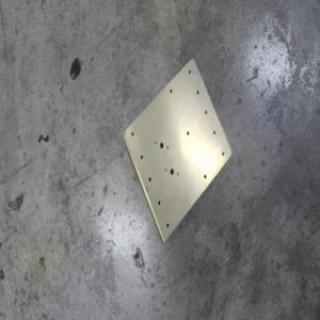MetalSheettrack_idkeyframe: (120, 54, 232, 245)
